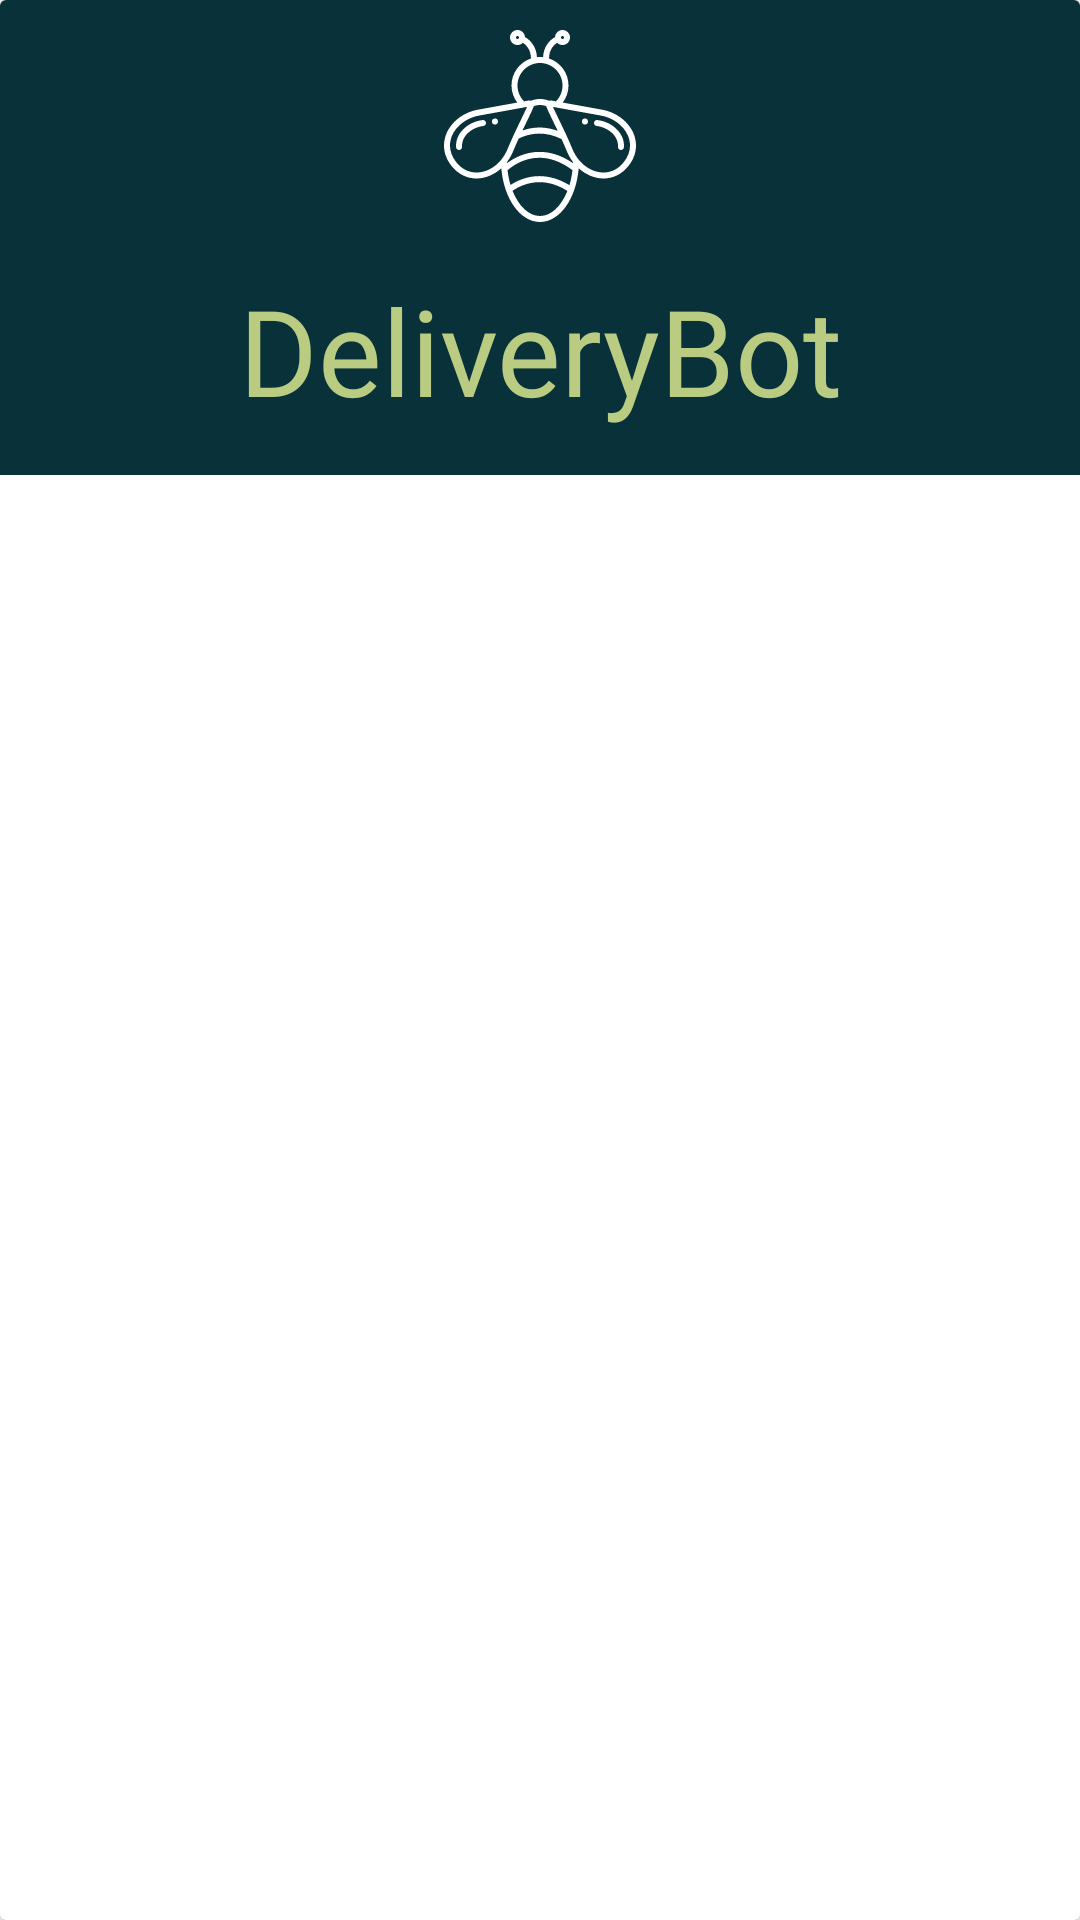

Locate icon controls on the screen. Image size 1080px×1920px, boxes as (x1, y1, x2, y2).
noun bee: (444, 30, 636, 222)
